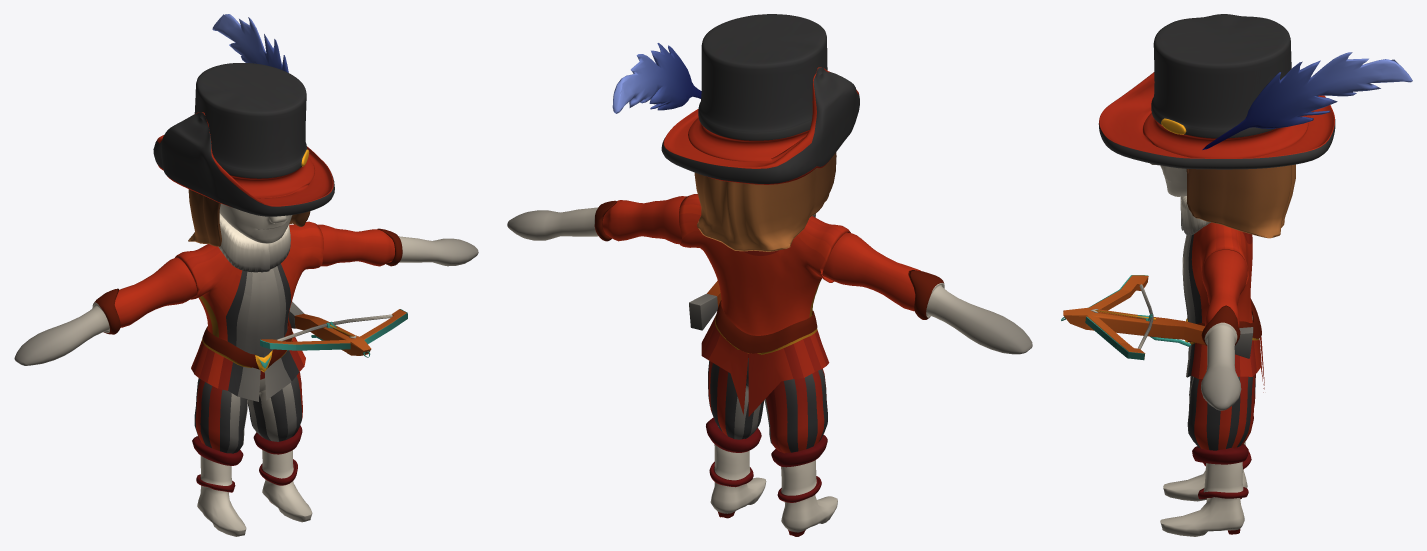
The model's file is Pelaajahahmo.fbx.
3 views of the same model, side by side, from view 1: azimuth 30°, elevation 25°; view 2: azimuth 150°, elevation 25°; view 3: azimuth 270°, elevation 25° (orthographic). The views are drawn at different scales.
Visible parts, largest first — view 1: Pelaajahahmo; view 2: Pelaajahahmo; view 3: Pelaajahahmo.
Boxes of the visible parts, box(x1,y1,x2,y2) form: Pelaajahahmo: box(14, 14, 478, 536); Pelaajahahmo: box(507, 14, 1032, 536); Pelaajahahmo: box(1061, 14, 1412, 536).
Size of the model in its own units: 1.14 by 1.04 by 0.6723.
